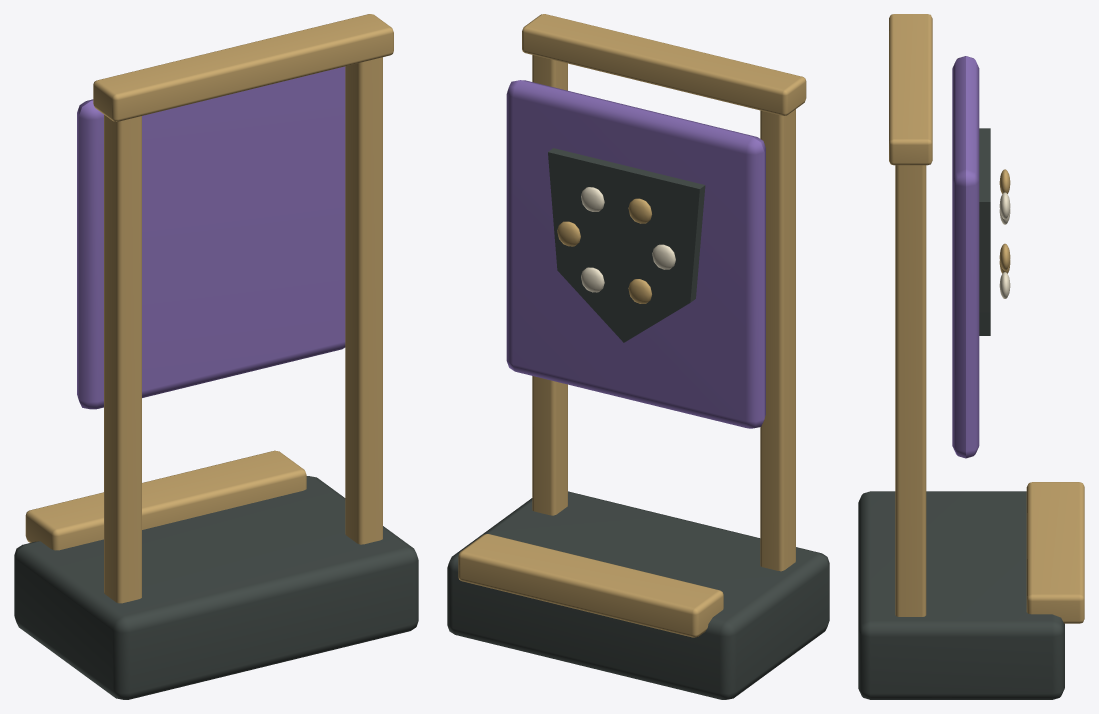
File: fanstand.moon-foxes-new.glb
3 renders of one model, left to right at view 1: azimuth 30°, elevation 25°; view 2: azimuth 150°, elevation 25°; view 3: azimuth 270°, elevation 25°, orthographic. The views are drawn at different scales.
Parts seen in each view (by area): view 1: Beveled pedestal; view 2: Beveled pedestal; view 3: Beveled pedestal.
Part boxes in pixels (x1,y1,x2,y2): Beveled pedestal: (14, 14, 418, 699); Beveled pedestal: (447, 14, 829, 699); Beveled pedestal: (858, 14, 1084, 699).
Size of the model in its own units: 0.91 by 1.7 by 0.625.
